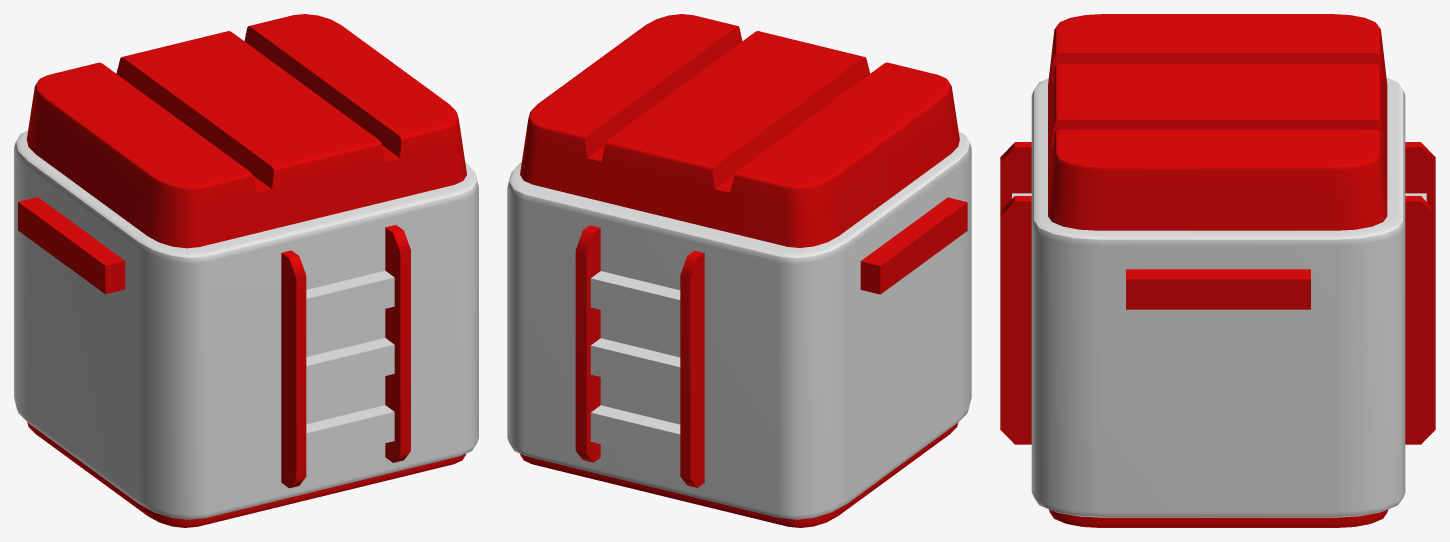
Rendered from CrateBasColour02.fbx.
3 views of the same model, side by side, from view 1: azimuth 30°, elevation 25°; view 2: azimuth 150°, elevation 25°; view 3: azimuth 270°, elevation 25° (orthographic). The views are drawn at different scales.
Visible parts, largest first — view 1: Crate2; view 2: Crate2; view 3: Crate2.
Part boxes in pixels (x1,y1,x2,y2): Crate2: [14, 14, 478, 527]; Crate2: [507, 14, 971, 527]; Crate2: [1000, 14, 1435, 527].
Size of the model in its own units: 14.96 by 13.15 by 14.43.
